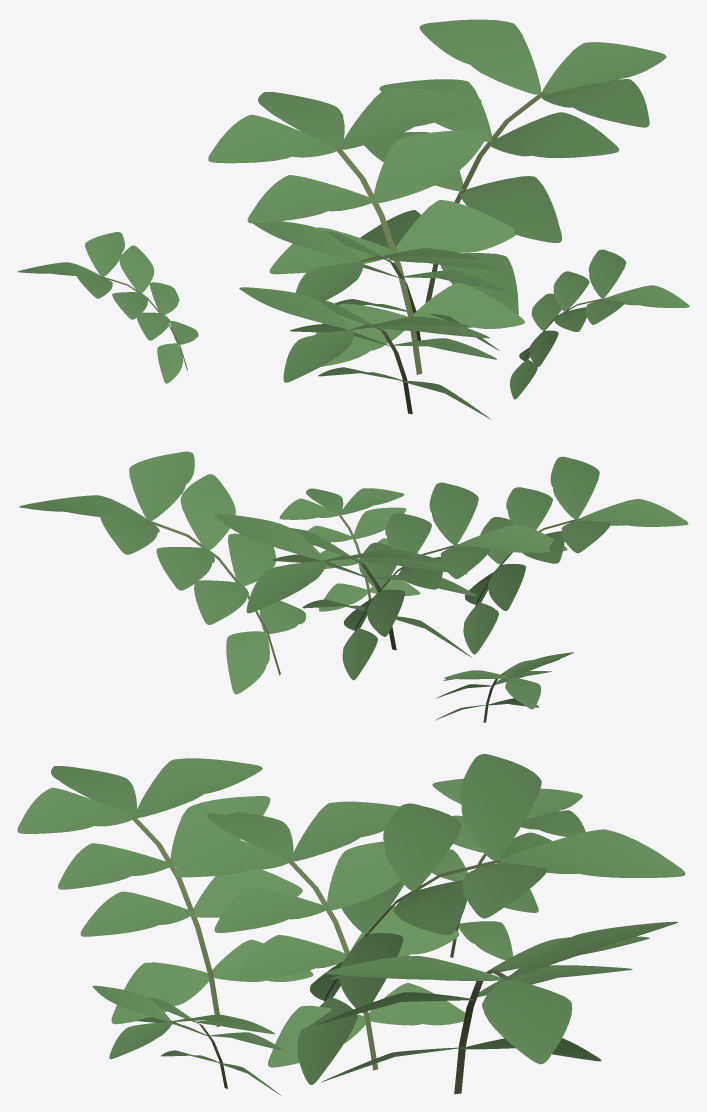
Rendered from vegetation_perennials.fbx.
The picture shows the model from 3 angles, top to bottom: view 1: azimuth 30°, elevation 25°; view 2: azimuth 150°, elevation 25°; view 3: azimuth 270°, elevation 25°; orthographic projection. The views are drawn at different scales.
Parts seen in each view (by area): view 1: perennials_LOD0; view 2: perennials_LOD0; view 3: perennials_LOD0.
Boxes of the visible parts, box(x1,y1,x2,y2) form: perennials_LOD0: box(17, 19, 689, 419); perennials_LOD0: box(19, 451, 688, 722); perennials_LOD0: box(17, 754, 685, 1095).
Size of what is drawn, in the model's own units: 135 by 41.9 by 107.
1 material, 1 textured.
